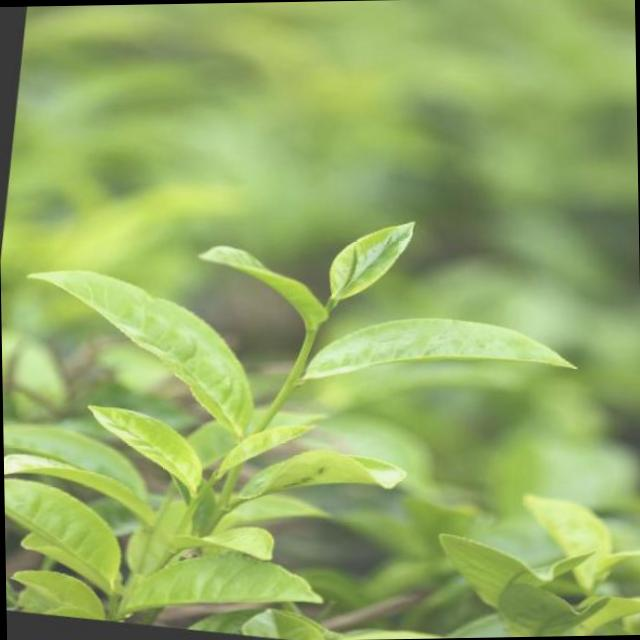Stem: (303, 330, 316, 340)
